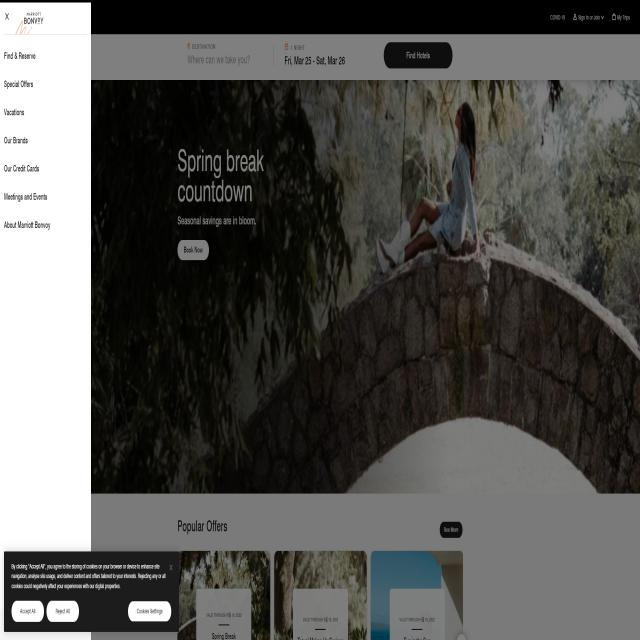menu-bar: (539, 3, 635, 33)
menu-panel: (1, 3, 91, 544)
